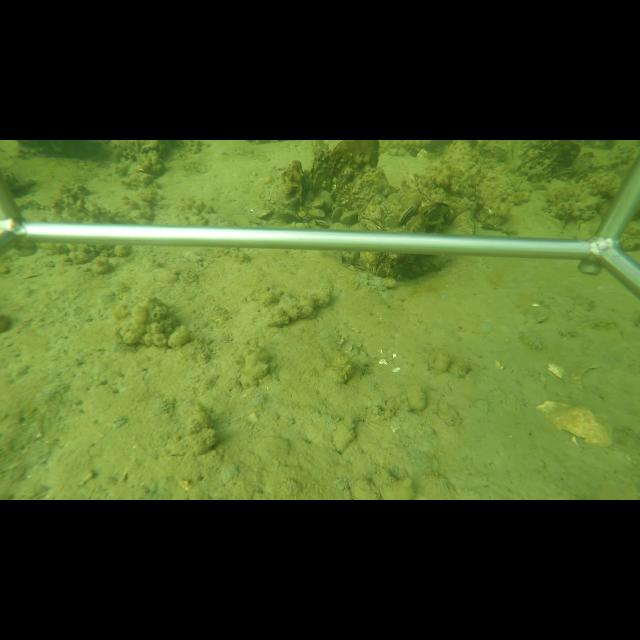Oyster-Closed: (423, 202, 450, 223), (398, 205, 412, 226), (339, 211, 359, 224), (306, 209, 326, 219)
